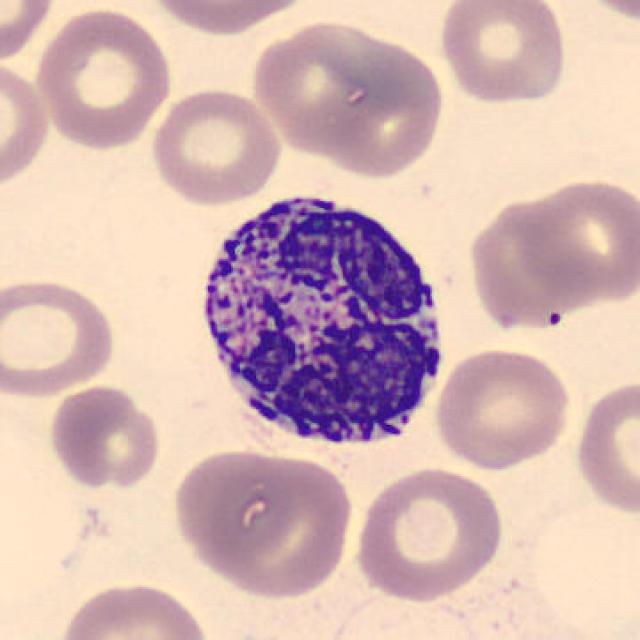Basophil: (185, 178, 460, 469)
RBC: (167, 444, 357, 600), (245, 16, 441, 162), (350, 462, 507, 603), (30, 3, 176, 154), (432, 344, 574, 472), (462, 194, 588, 337), (514, 172, 638, 308), (148, 85, 284, 208), (0, 273, 119, 402), (434, 0, 570, 108), (44, 381, 164, 492), (52, 578, 212, 640), (318, 583, 492, 640), (571, 374, 638, 520), (0, 54, 53, 195), (142, 0, 316, 37), (0, 0, 59, 65), (572, 0, 640, 25)
